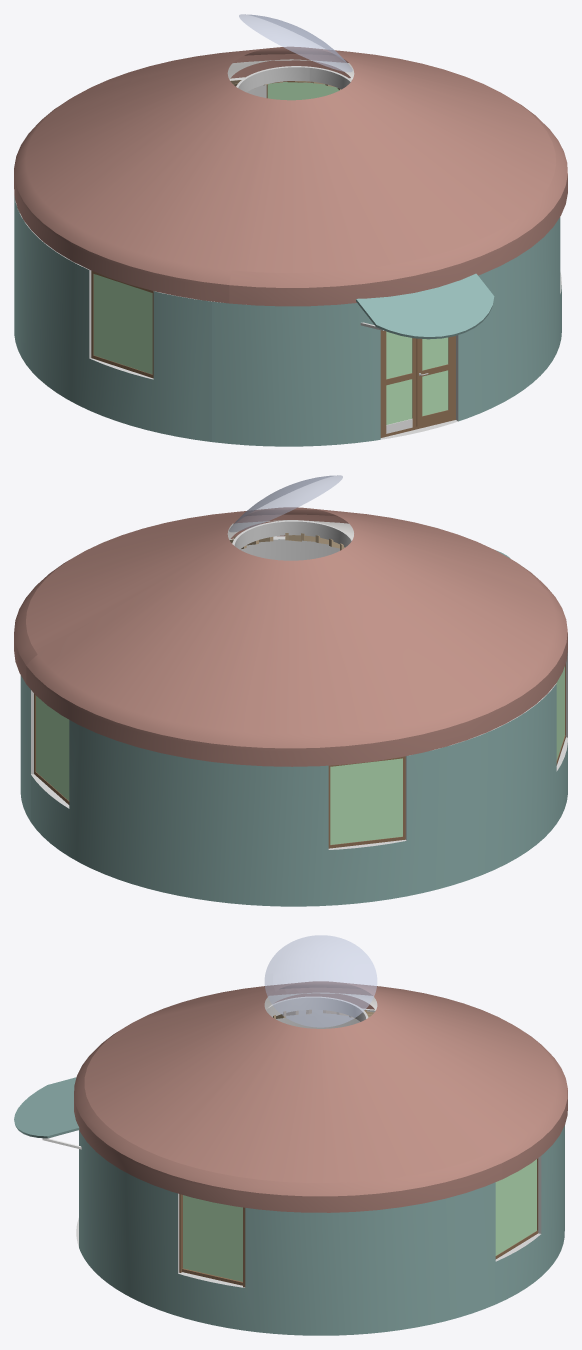
The model's file is shell.glb.
3 renders of one model, top to bottom at view 1: azimuth 30°, elevation 25°; view 2: azimuth 150°, elevation 25°; view 3: azimuth 270°, elevation 25°, orthographic. The views are drawn at different scales.
Visible parts, largest first — view 1: fabric_1, [0042_Sienna], Glass, Charcoal Blue, [Translucent Glass Sky Reflection]2, Roof frame, Wall cover, fabric_03; view 2: fabric_1, [0042_Sienna], Glass, Wall cover, Roof frame, [Translucent Glass Sky Reflection]2, Charcoal Blue, fabric_03; view 3: fabric_1, [0042_Sienna], [Translucent Glass Sky Reflection]2, Glass, Wall cover, Roof frame, Charcoal Blue.
Part boxes in pixels (<box>): fabric_1: <box>14,46,567,306</box>; [0042_Sienna]: <box>14,196,561,446</box>; Glass: <box>93,82,448,424</box>; Charcoal Blue: <box>91,81,455,437</box>; [Translucent Glass Sky Reflection]2: <box>239,14,352,72</box>; Roof frame: <box>15,66,351,302</box>; Wall cover: <box>89,85,561,439</box>; fabric_03: <box>227,59,354,79</box>; fabric_1: <box>14,507,567,766</box>; [0042_Sienna]: <box>20,539,567,906</box>; Glass: <box>36,666,564,844</box>; Wall cover: <box>31,539,567,849</box>; Roof frame: <box>229,520,556,749</box>; [Translucent Glass Sky Reflection]2: <box>229,475,342,532</box>; Charcoal Blue: <box>34,663,565,848</box>; fabric_03: <box>227,520,353,539</box>; fabric_1: <box>74,981,567,1212</box>; [0042_Sienna]: <box>14,1077,564,1335</box>; [Translucent Glass Sky Reflection]2: <box>264,935,377,1027</box>; Glass: <box>183,1159,536,1281</box>; Wall cover: <box>76,1009,541,1287</box>; Roof frame: <box>266,996,375,1021</box>; Charcoal Blue: <box>179,1158,538,1287</box>.
Size of the model in its own units: 10.12 by 6.33 by 11.34.
